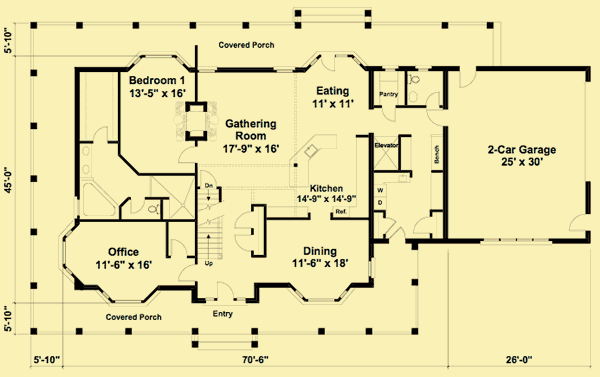door: (408, 213, 435, 237), (175, 262, 200, 285), (566, 211, 590, 234), (167, 236, 189, 261), (214, 279, 236, 303), (456, 63, 477, 88), (231, 231, 253, 254), (175, 145, 199, 166), (318, 53, 339, 75), (232, 209, 253, 231), (90, 123, 110, 144), (380, 103, 400, 124), (425, 108, 446, 128), (196, 168, 220, 185), (127, 195, 147, 215), (381, 215, 398, 237), (424, 89, 441, 107), (389, 226, 408, 241)
kitchen bar: (285, 130, 339, 188)
large sink: (266, 64, 301, 73), (146, 200, 163, 218), (406, 70, 422, 88)
small sink: (81, 144, 92, 180), (407, 89, 418, 105)
stairs: (197, 183, 227, 268)
windows: (476, 235, 553, 246), (57, 235, 69, 266), (365, 255, 378, 280), (112, 297, 144, 307), (303, 295, 337, 304), (271, 64, 298, 75), (198, 63, 220, 76), (142, 52, 175, 59)
